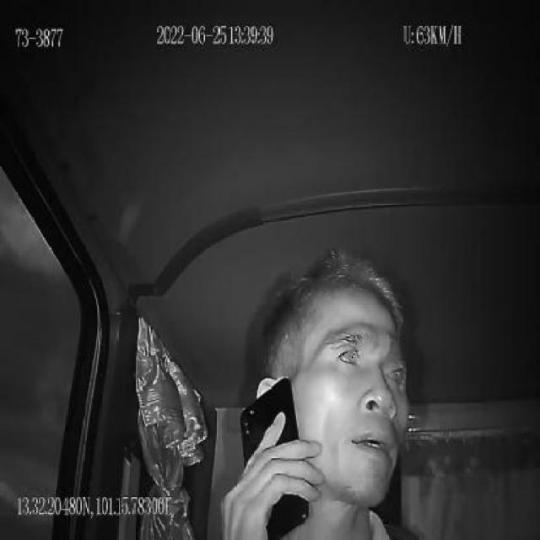phone: (240, 374, 308, 540)
